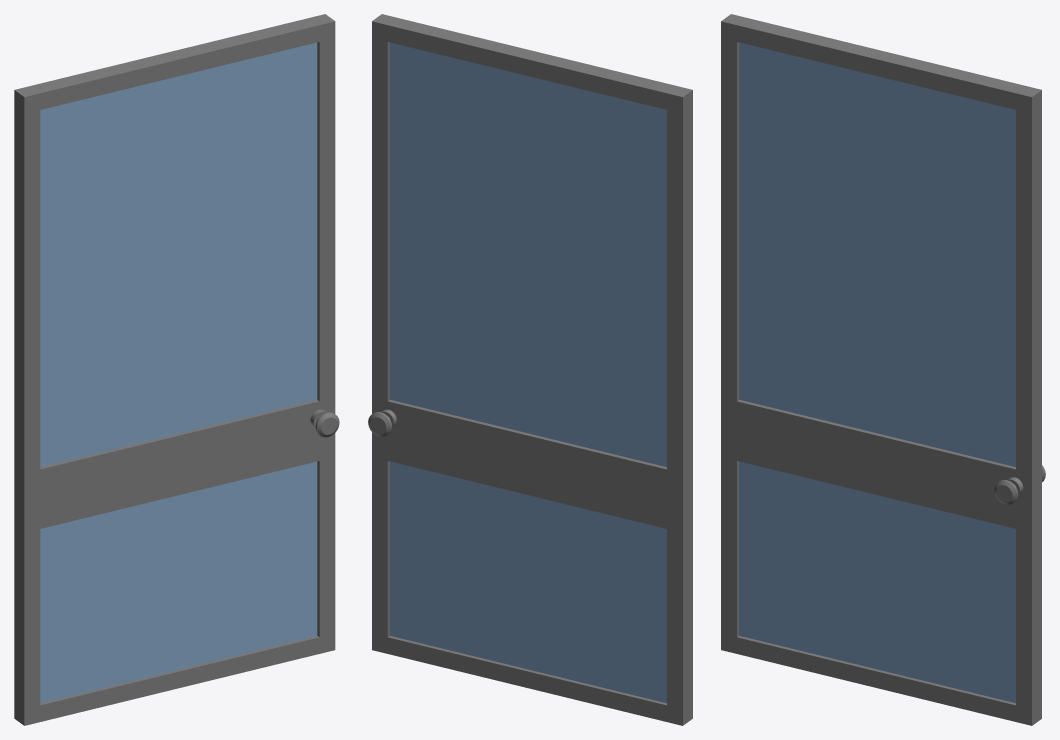
File: SM_CabinDoor.FBX
The picture shows the model from 3 angles, left to right: view 1: azimuth 30°, elevation 25°; view 2: azimuth 150°, elevation 25°; view 3: azimuth 330°, elevation 25°; orthographic projection.
Parts seen in each view (by area): view 1: SM_CabinDoor_LOD0; view 2: SM_CabinDoor_LOD0; view 3: SM_CabinDoor_LOD0.
Part boxes in pixels (x1,y1,x2,y2): SM_CabinDoor_LOD0: [14, 14, 339, 725]; SM_CabinDoor_LOD0: [368, 14, 692, 725]; SM_CabinDoor_LOD0: [721, 14, 1045, 725].
Size of what is drawn, in the model's own units: 97.56 by 188 by 17.04.
